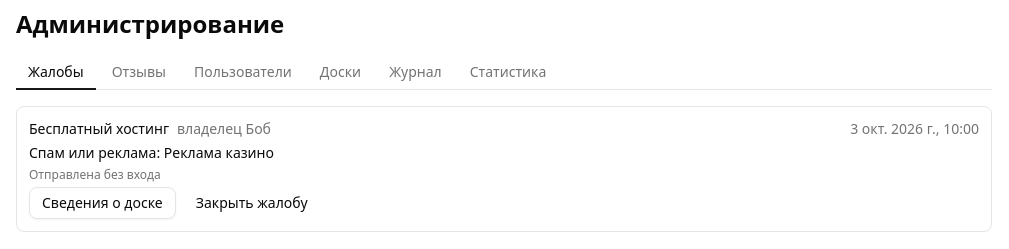
AdminPage › shows the journal of the administrators
This screenshot has width=1009, height=249.
Click the tab "Журнал" at (415, 73), box [377,56,454,90]
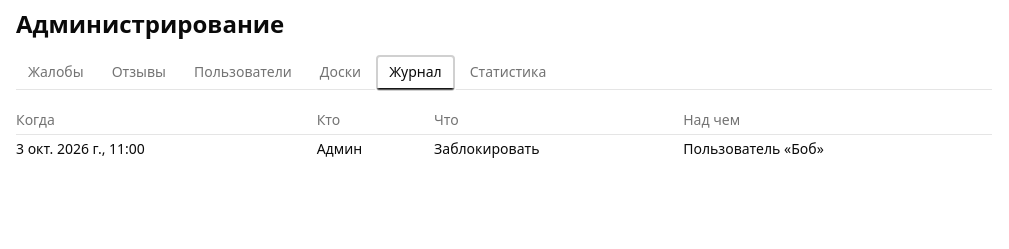
Now the table named "Журнал действий администраторов" shows "Админ", box [317,139,362,158]
Now the table named "Журнал действий администраторов" shows "Заблокировать", box [434,139,539,158]
Now the table named "Журнал действий администраторов" shows "Пользователь «Боб»", box [683,139,824,158]
